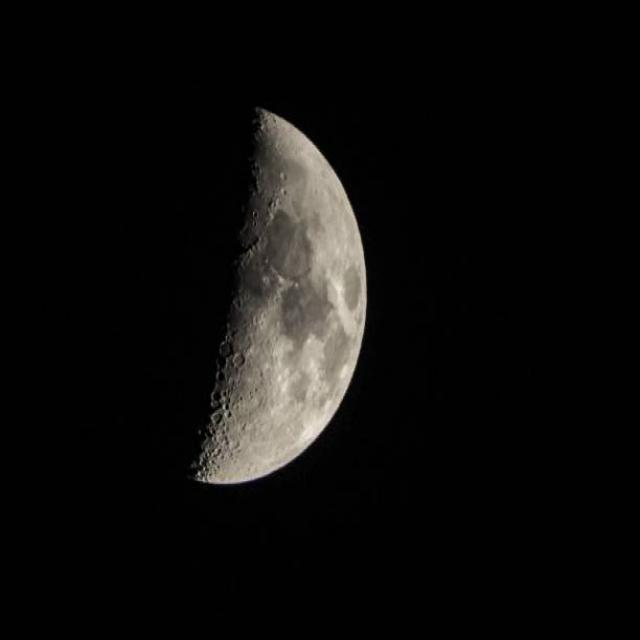moon: (93, 90, 370, 490)
